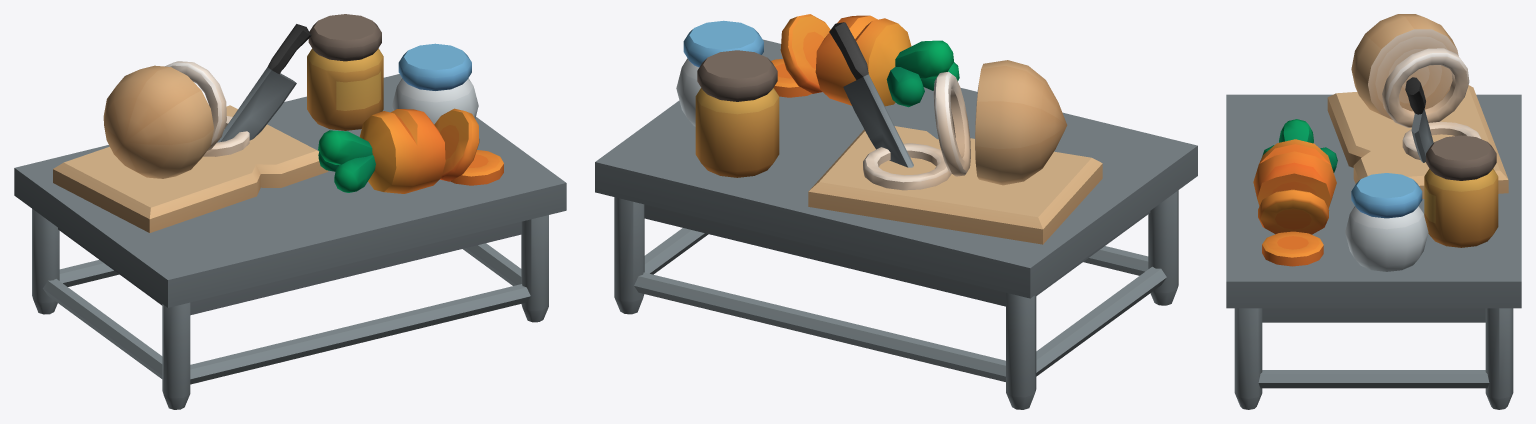
File: kay-kitchentable_a_large_decorated.glb
3 views of the same model, side by side, from view 1: azimuth 30°, elevation 25°; view 2: azimuth 150°, elevation 25°; view 3: azimuth 270°, elevation 25° (orthographic). The views are drawn at different scales.
Visible parts, largest first — view 1: kitchentable_A_large_decorated; view 2: kitchentable_A_large_decorated; view 3: kitchentable_A_large_decorated.
Boxes of the visible parts, x1,y1,x2,y2 form: kitchentable_A_large_decorated: [14, 14, 566, 409]; kitchentable_A_large_decorated: [595, 14, 1197, 409]; kitchentable_A_large_decorated: [1226, 14, 1521, 409].
Bounding box in the file's own units: 1.8 × 1.16 × 1.2.
Materials: 1 (1 with a texture image).
